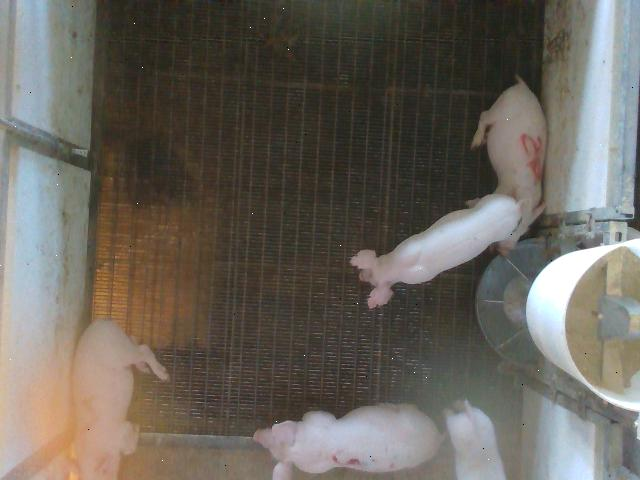pig-2: (72, 319, 169, 479)
pig-3: (254, 404, 442, 479)
pig-5: (471, 76, 546, 243)
